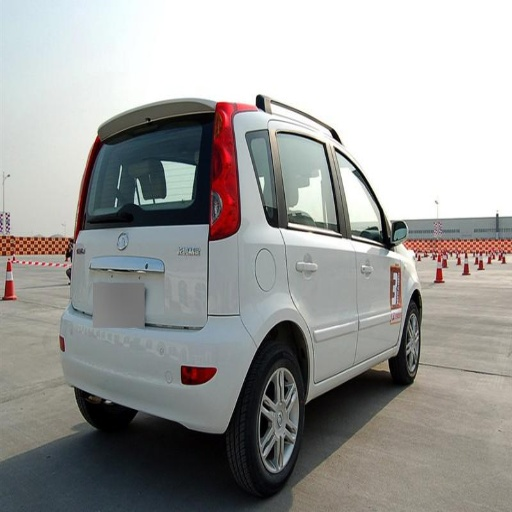back_bumper: (61, 312, 257, 428)
back_glass: (88, 118, 209, 221)
back_right_door: (254, 128, 355, 380)
trunk: (73, 222, 210, 355)
